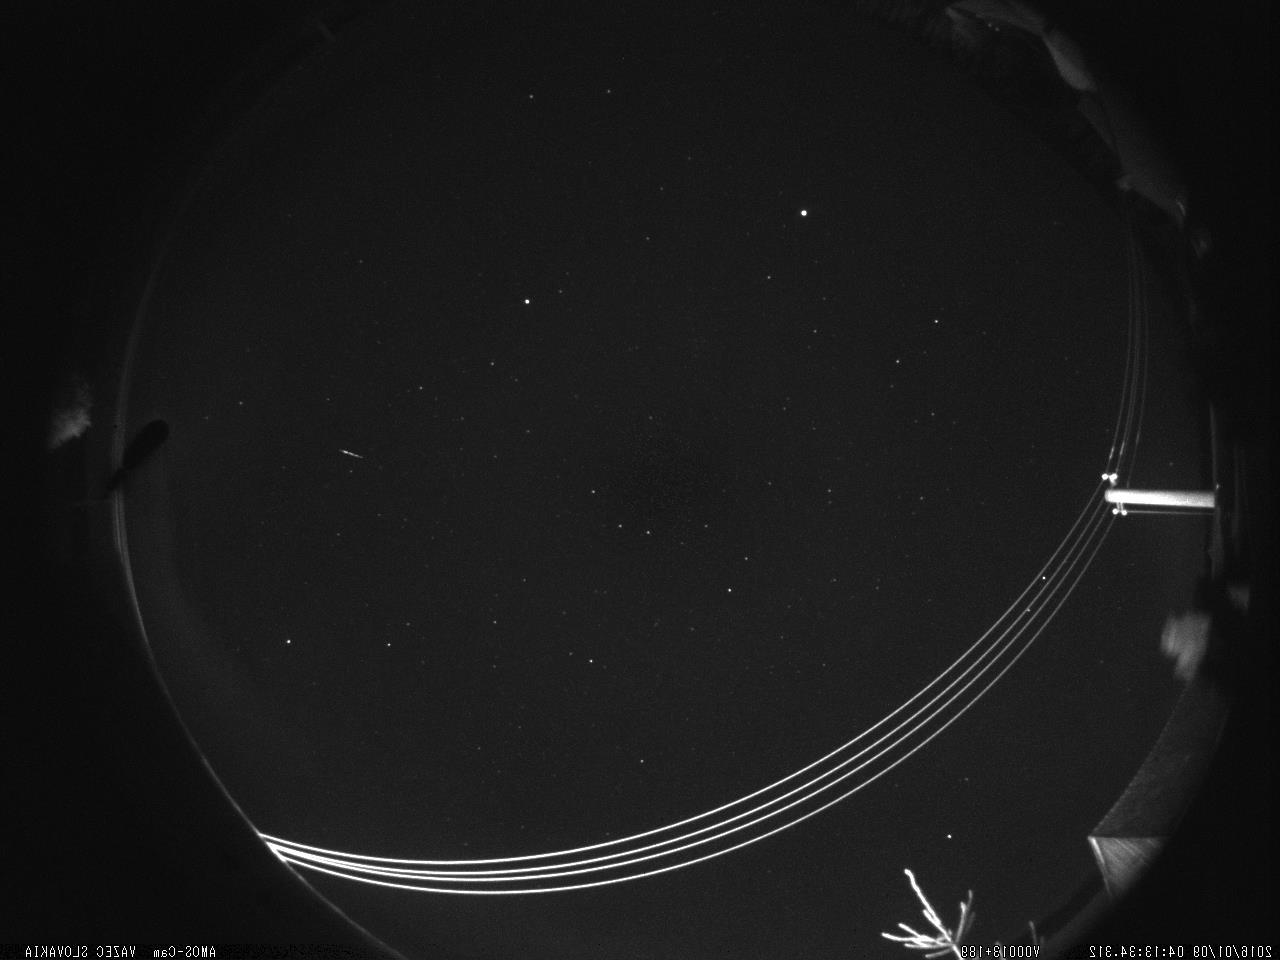meteor: (328, 444, 372, 466)
